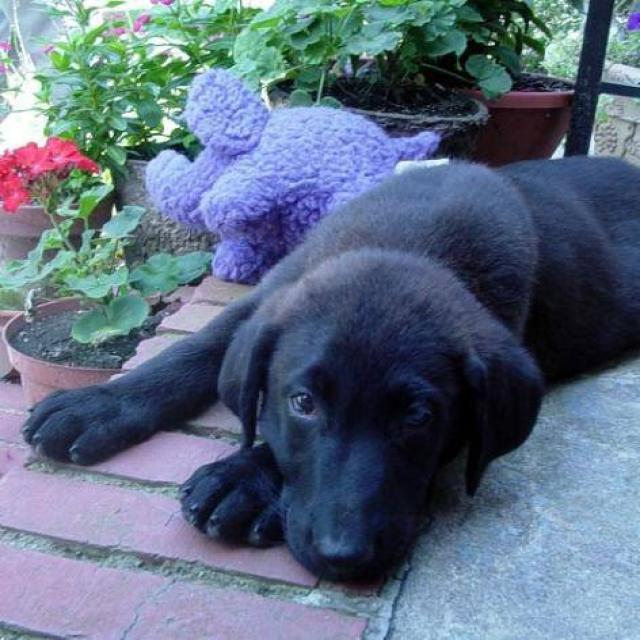Dog: (209, 236, 548, 591)
